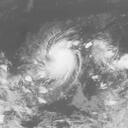cyclone: (27, 29, 83, 93)
